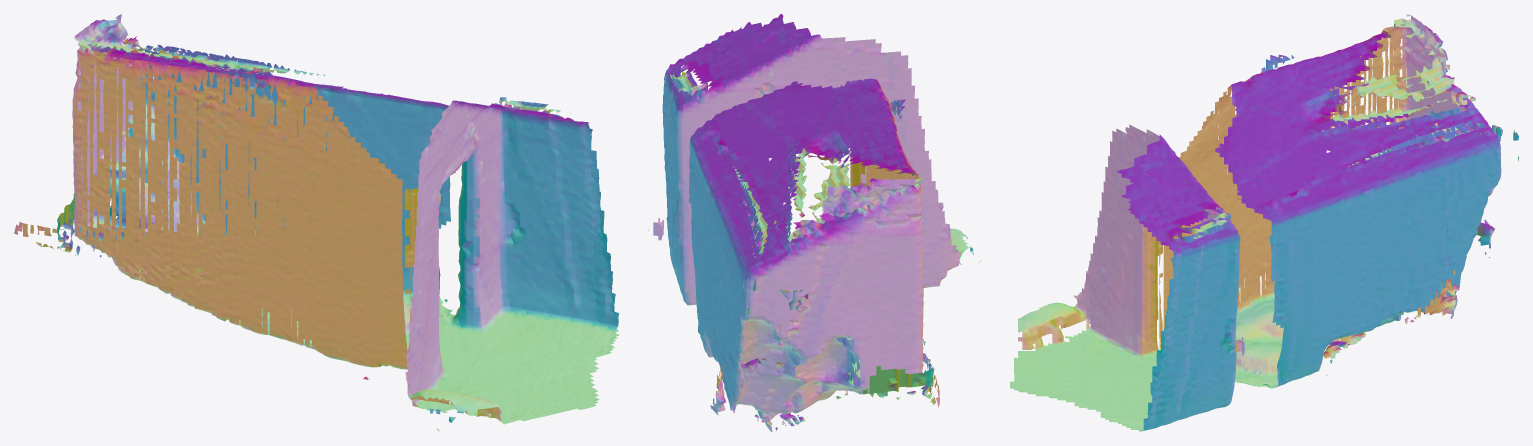
Rendered from AbundanceScan-2026-11-11_174926.glb.
3 renders of one model, left to right at view 1: azimuth 30°, elevation 25°; view 2: azimuth 150°, elevation 25°; view 3: azimuth 270°, elevation 25°, orthographic. The views are drawn at different scales.
Visible parts, largest first — view 1: AbundanceScan-2026-11-11_174926.glb; view 2: AbundanceScan-2026-11-11_174926.glb; view 3: AbundanceScan-2026-11-11_174926.glb.
Boxes of the visible parts, x1,y1,x2,y2 form: AbundanceScan-2026-11-11_174926.glb: (14, 14, 619, 431); AbundanceScan-2026-11-11_174926.glb: (648, 14, 981, 431); AbundanceScan-2026-11-11_174926.glb: (1010, 14, 1518, 431).
Bounding box in the file's own units: 3.12 × 2.01 × 3.56.
